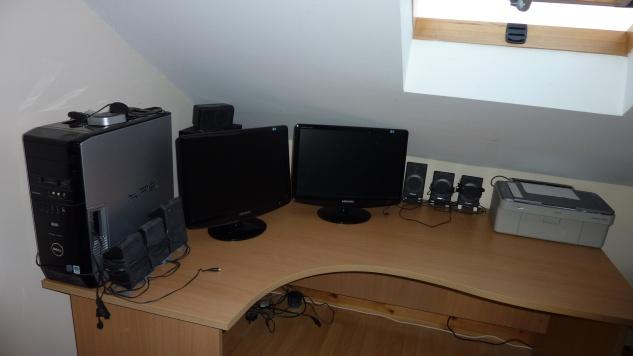AIO PC-Monitor-TV: (176, 124, 292, 243), (290, 122, 408, 225)
Printer: (488, 177, 615, 249)
